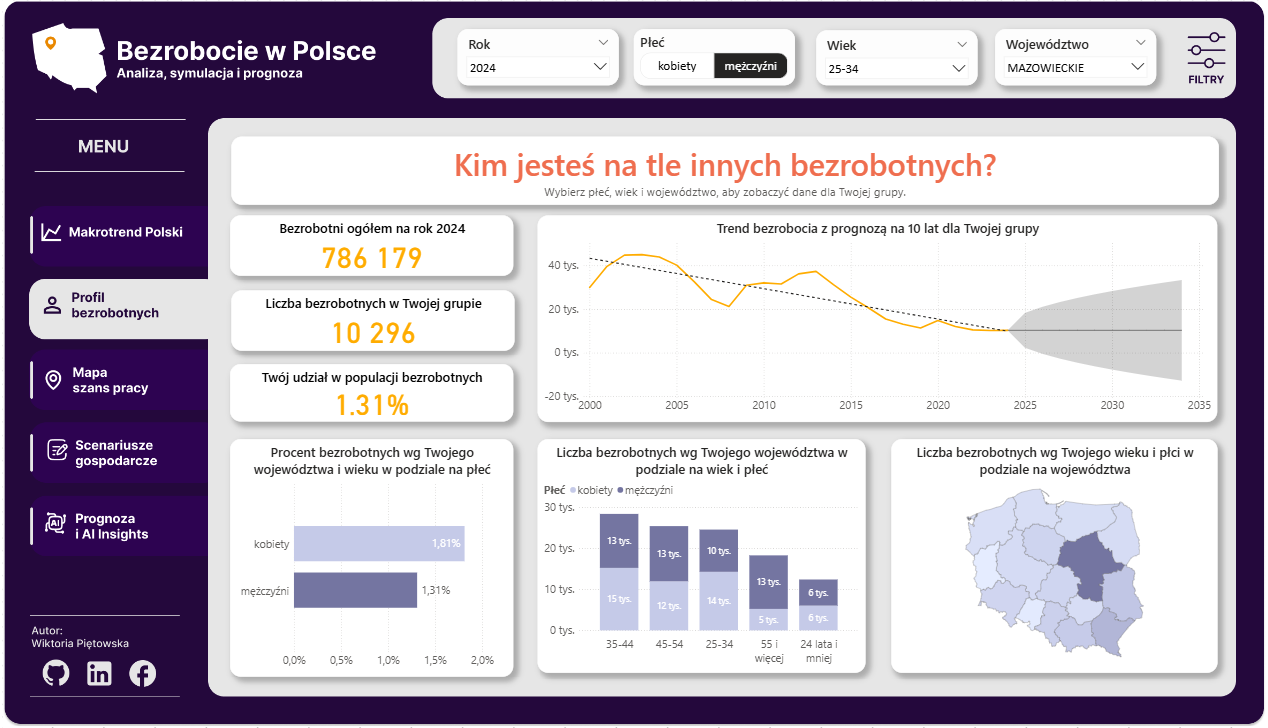

The page's visual inventory and layout, read from the dashboard file:
{"tool":"powerbi","page":{"name":"Strona 2","canvas":[2360,1360],"ordinal":1},"visuals":[{"type":"image","box":[0,0,2360,1360],"z":0},{"type":"card","fields":{"Values":["#Miary.S2_Bezrobotni_Ogolem"]},"box":[427.5,402.5,527.5,112.5],"z":2000},{"type":"card","title":"Twój udział w populacji bezrobotnych","fields":{"Values":["#Miary.UdzialWPopulacji%"]},"box":[427.5,680,527.5,107.5],"z":3000},{"type":"card","title":"Liczba bezrobotnych w Twojej grupie","fields":{"Values":["#Miary.BezrobotniOgolemLY"]},"box":[430,542.5,527.5,112.5],"z":4000},{"type":"columnChart","title":"Liczba bezrobotnych wg Twojego województwa w podziale na wiek i płeć","fields":{"Category":["PlecWiek.n1"],"Y":["#Miary.BezrobotniOgolemLY"],"Series":["PlecWiek.n2"]},"box":[1000,817.5,610,435],"z":5000},{"type":"clusteredBarChart","title":"Procent bezrobotnych wg Twojego województwa i wieku w podziale na płeć","fields":{"Category":["PlecWiek.n2"],"Y":["#Miary.UdzialWPopulacji%"]},"box":[427.5,817.5,527.5,442.5],"z":6000},{"type":"shapeMap","title":"Liczba bezrobotnych wg Twojego wieku i płci w podziale na województwa","fields":{"Value":["#Miary.BezrobotniOgolemLY"],"Category":["PlecWiek.Województwo"]},"box":[1657.5,817.5,607.5,435],"z":7000},{"type":"shape","box":[2182.5,42.5,105,130],"z":8000},{"type":"shape","box":[51.4,382.9,334.3,107.1],"z":10000},{"type":"lineChart","title":"Trend bezrobocia z prognozą na 10 lat dla Twojej grupy","fields":{"Y":["#Miary.BezrobotniWgFiltrow"],"Category":["PlecWiek.Rok"]},"box":[1000,402.5,1265,385],"z":11000},{"type":"shape","box":[72.5,1222.5,65,61.2],"z":12000},{"type":"shape","box":[155,1222.5,62.5,61.2],"z":13000},{"type":"shape","box":[50,655,335,107.5],"z":14000},{"type":"advancedSlicerVisual","title":"Płeć","fields":{"Values":["PlecWiek.n2"]},"box":[1180,55,300,105],"z":15000},{"type":"slicer","fields":{"Values":["PlecWiek.n1"]},"box":[1517.5,57.5,300,102.5],"z":16000},{"type":"slicer","fields":{"Values":["PlecWiek.Województwo"]},"box":[1850,55,300,105],"z":17000},{"type":"slicer","fields":{"Values":["PlecWiek.Rok"]},"box":[850,55,300,105],"z":18000},{"type":"card","fields":{"Values":["#MiaryTytuly.Tytul7"]},"box":[430,255,1837.5,127.5],"z":19000},{"type":"shape","box":[52.5,787.5,335,107.5],"z":20000},{"type":"shape","box":[52.5,932.5,335,107.5],"z":21000}]}

Visuals, with their boxes in screenshot pixels (x1, y1, x2, y2), scaled from the page's 2360x1360 canvas onto the 1268x728 screenshot:
image: box(0, 0, 1267, 727)
card - #Miary.S2_Bezrobotni_Ogolem: box(230, 215, 513, 276)
"Twój udział w populacji bezrobotnych" card: box(230, 364, 513, 422)
"Liczba bezrobotnych w Twojej grupie" card: box(231, 290, 514, 351)
"Liczba bezrobotnych wg Twojego województwa w podziale na wiek i płeć" columnChart: box(537, 438, 865, 670)
"Procent bezrobotnych wg Twojego województwa i wieku w podziale na płeć" clusteredBarChart: box(230, 438, 513, 674)
"Liczba bezrobotnych wg Twojego wieku i płci w podziale na województwa" shapeMap: box(891, 438, 1217, 670)
shape: box(1173, 23, 1229, 92)
shape: box(28, 205, 207, 262)
"Trend bezrobocia z prognozą na 10 lat dla Twojej grupy" lineChart: box(537, 215, 1217, 422)
shape: box(39, 654, 74, 687)
shape: box(83, 654, 117, 687)
shape: box(27, 351, 207, 408)
"Płeć" advancedSlicerVisual: box(634, 29, 795, 86)
slicer - PlecWiek.n1: box(815, 31, 977, 86)
slicer - PlecWiek.Województwo: box(994, 29, 1155, 86)
slicer - PlecWiek.Rok: box(457, 29, 618, 86)
card - #MiaryTytuly.Tytul7: box(231, 136, 1218, 205)
shape: box(28, 422, 208, 479)
shape: box(28, 499, 208, 557)
